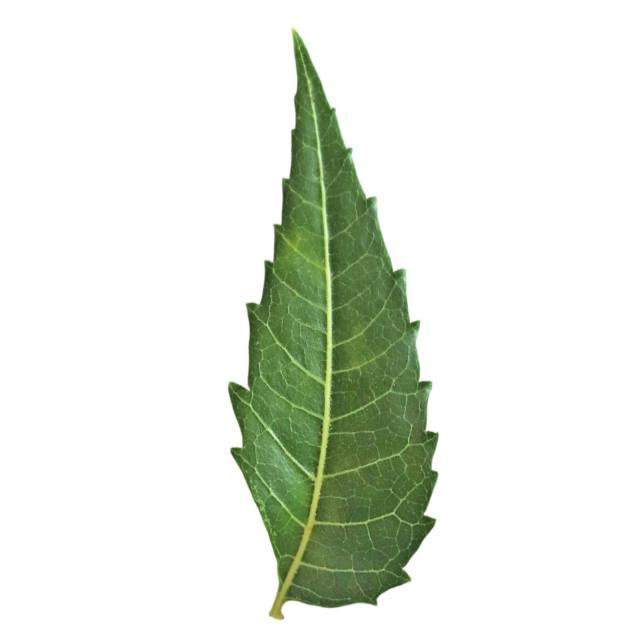Wet: (231, 9, 449, 638)
